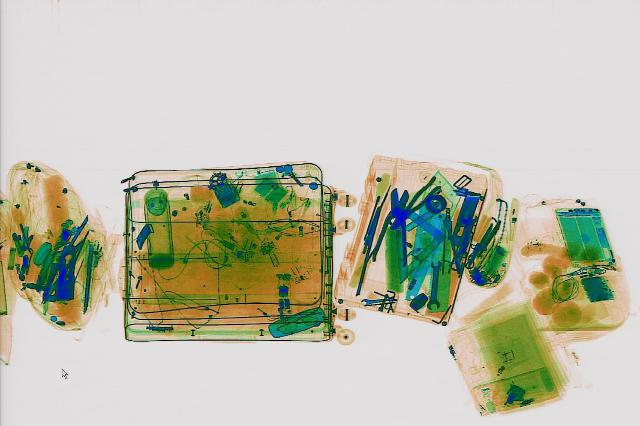Pliers: (368, 185, 420, 265), (384, 175, 446, 229)
Wrench: (424, 258, 444, 307)
